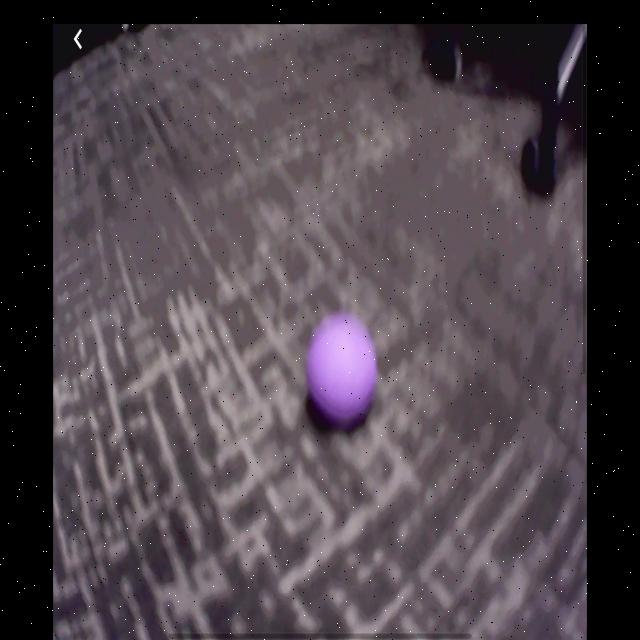ball: (306, 311, 379, 433)
